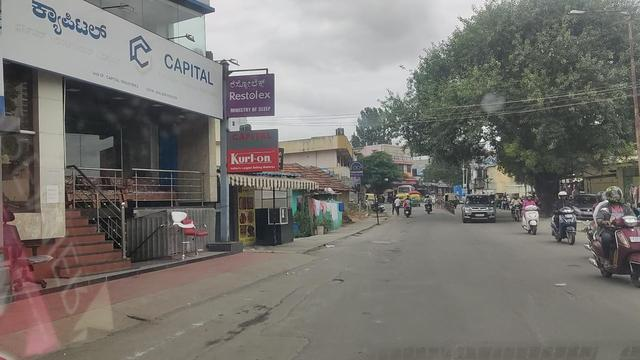RoadDamages: (253, 329, 311, 360), (197, 325, 246, 357), (275, 290, 319, 323), (364, 238, 403, 267), (329, 275, 350, 286)
